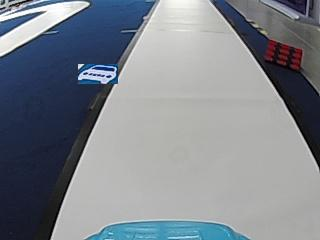bomb: (263, 40, 303, 70)
